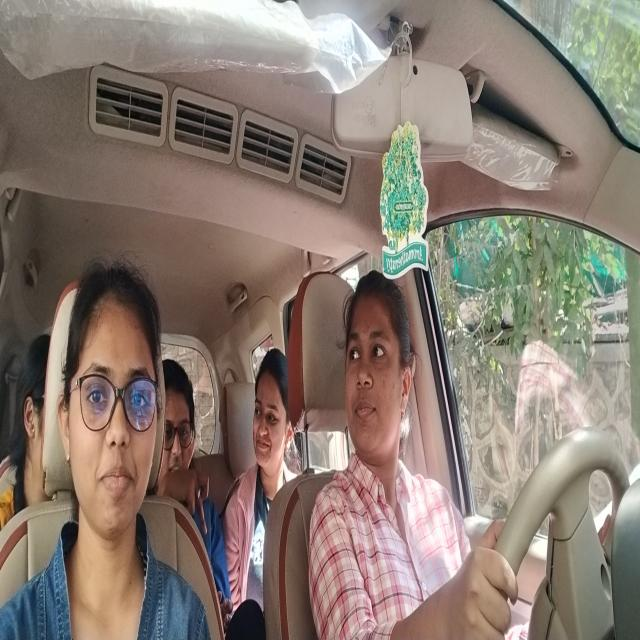LeftRight: (345, 266, 415, 464)
person: (70, 264, 159, 544), (14, 345, 50, 495), (253, 342, 289, 470), (165, 353, 198, 483)
